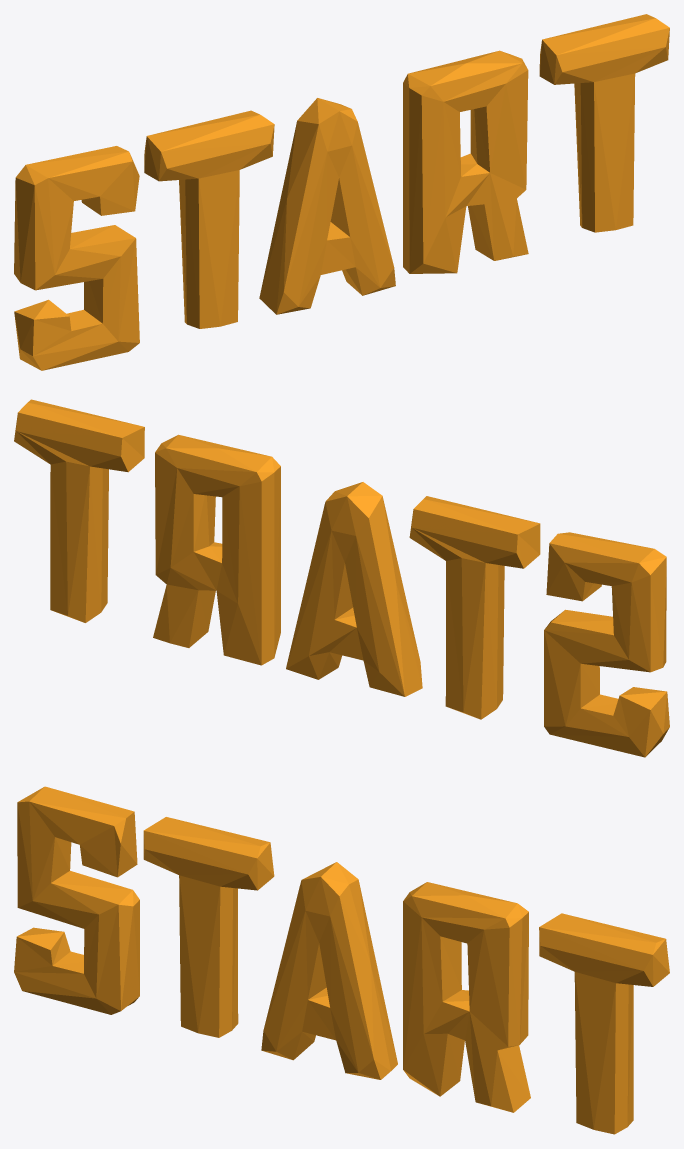
Rendered from SM_Icon_Text_Start_01.fbx.
3 views of the same model, one above another, from view 1: azimuth 30°, elevation 25°; view 2: azimuth 150°, elevation 25°; view 3: azimuth 330°, elevation 25° (orthographic).
Parts seen in each view (by area): view 1: SM_Icon_Text_Start_01; view 2: SM_Icon_Text_Start_01; view 3: SM_Icon_Text_Start_01.
Boxes of the visible parts, bbox=[...] form: SM_Icon_Text_Start_01: bbox=[14, 14, 669, 370]; SM_Icon_Text_Start_01: bbox=[14, 399, 669, 757]; SM_Icon_Text_Start_01: bbox=[14, 786, 669, 1134].
Bounding box in the file's own units: 102 × 30.61 × 6.22.
